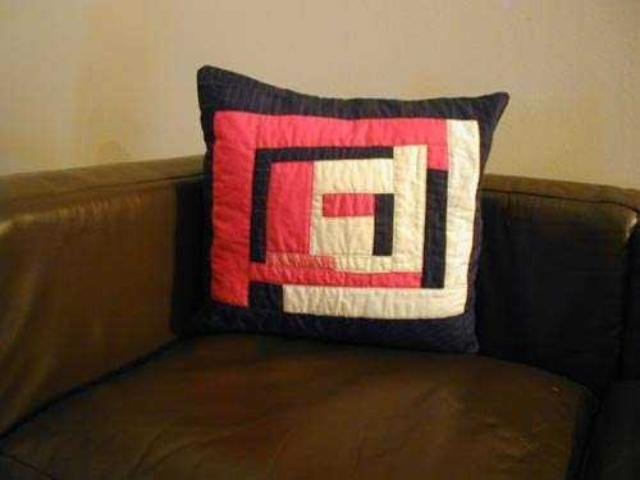pillow: (188, 63, 510, 353)
